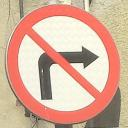NoVirarDireita: (4, 4, 124, 124)
